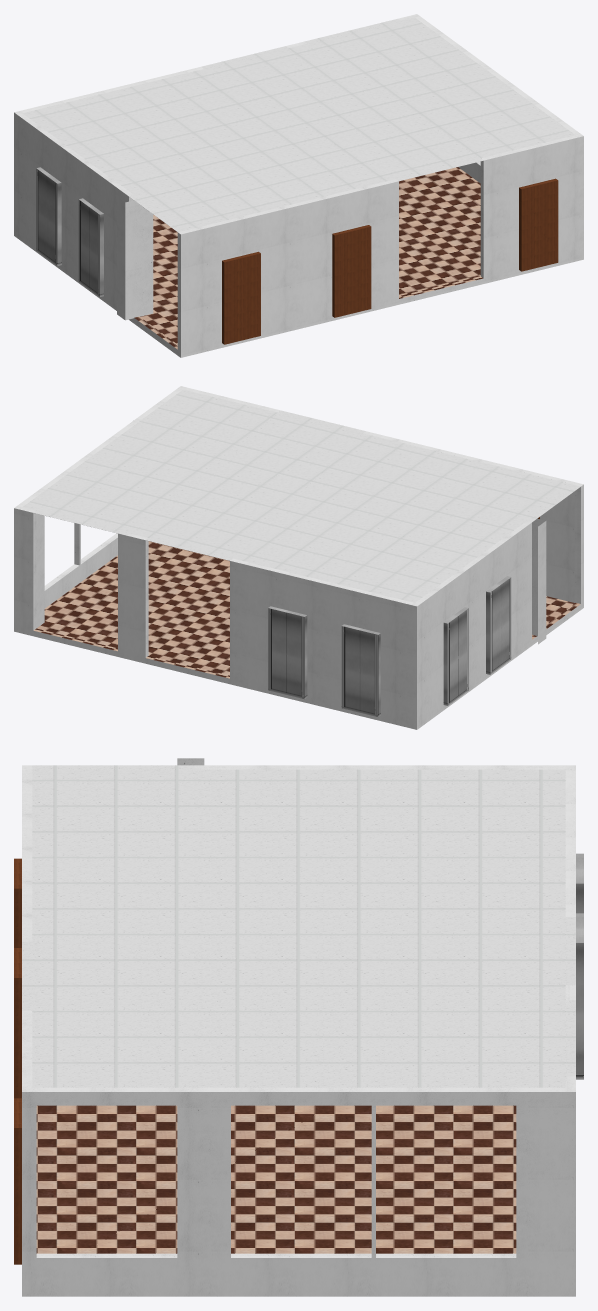
Rendered from crossroad_v2_texture.fbx.
3 renders of one model, top to bottom at view 1: azimuth 30°, elevation 25°; view 2: azimuth 150°, elevation 25°; view 3: azimuth 270°, elevation 25°, orthographic. The views are drawn at different scales.
Visible parts, largest first — view 1: Plane.362, Plane.361, door_elevator.109, door.032, column_6/8.013, door_elevator.110; view 2: Plane.362, Plane.361, door.046, door.032, column_6/8.013, column_1/4.008; view 3: Plane.362, Plane.361, door_elevator.109, door.046, door_elevator.110.
Part boxes in pixels (x1,y1,x2,y2): Plane.362: (23,17,575,231); Plane.361: (14,14,583,357); door_elevator.109: (222,225,371,344); door.032: (36,167,103,296); column_6/8.013: (117,197,153,320); door_elevator.110: (519,178,558,271); Plane.362: (22,389,580,602); Plane.361: (14,386,583,729); door.046: (268,606,380,716); door.032: (443,576,511,705); column_6/8.013: (532,518,546,644); column_1/4.008: (36,513,44,628); Plane.362: (22,765,575,1087); Plane.361: (22,765,575,1296); door_elevator.109: (14,858,21,1098); door.046: (576,853,583,1079); door_elevator.110: (14,1098,21,1264).
Bounding box in the file's own units: 389 × 111 × 281.
